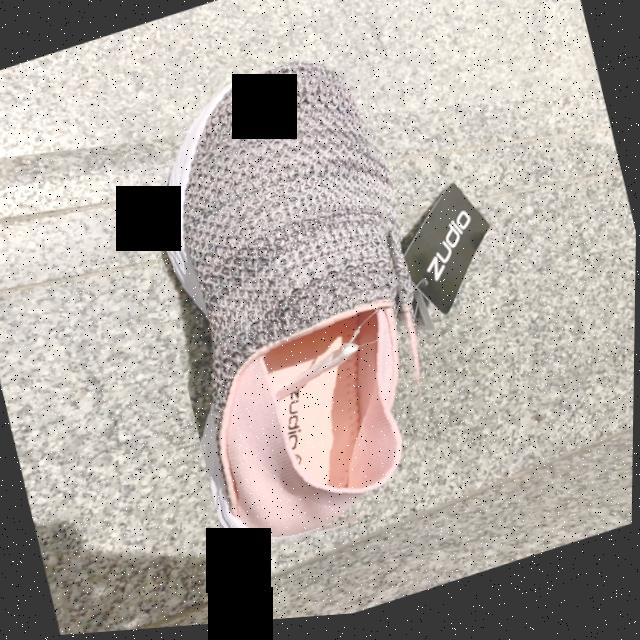shoe: (161, 64, 412, 551)
